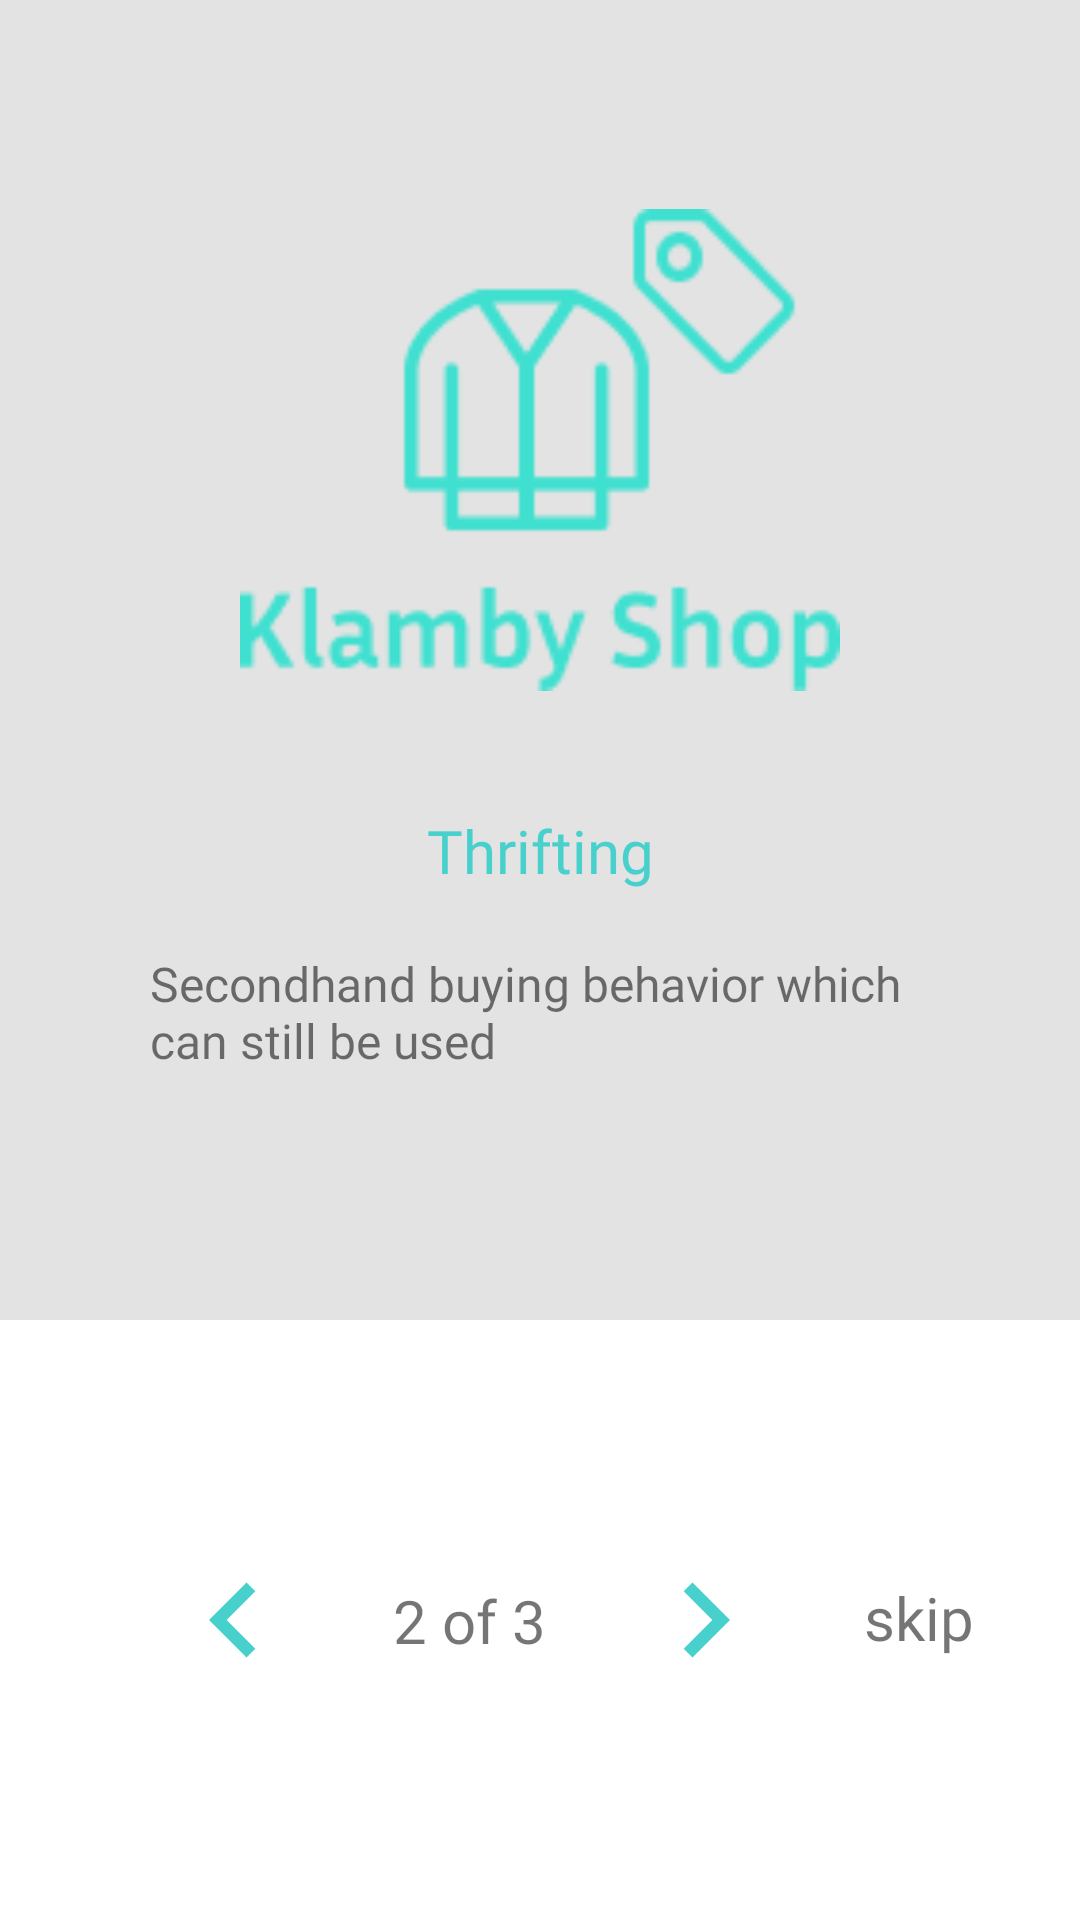

Icon bounding boxes for this 1080×1920 phone screenshot, format {"x1": x1, "y1": y1, "x2": x2, "y2": y2}:
keyboard arrow left: {"x1": 209, "y1": 1582, "x2": 255, "y2": 1658}
keyboard arrow right: {"x1": 684, "y1": 1582, "x2": 730, "y2": 1658}
